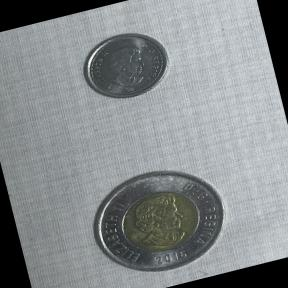coin: (73, 147, 245, 288), (71, 17, 182, 114)
